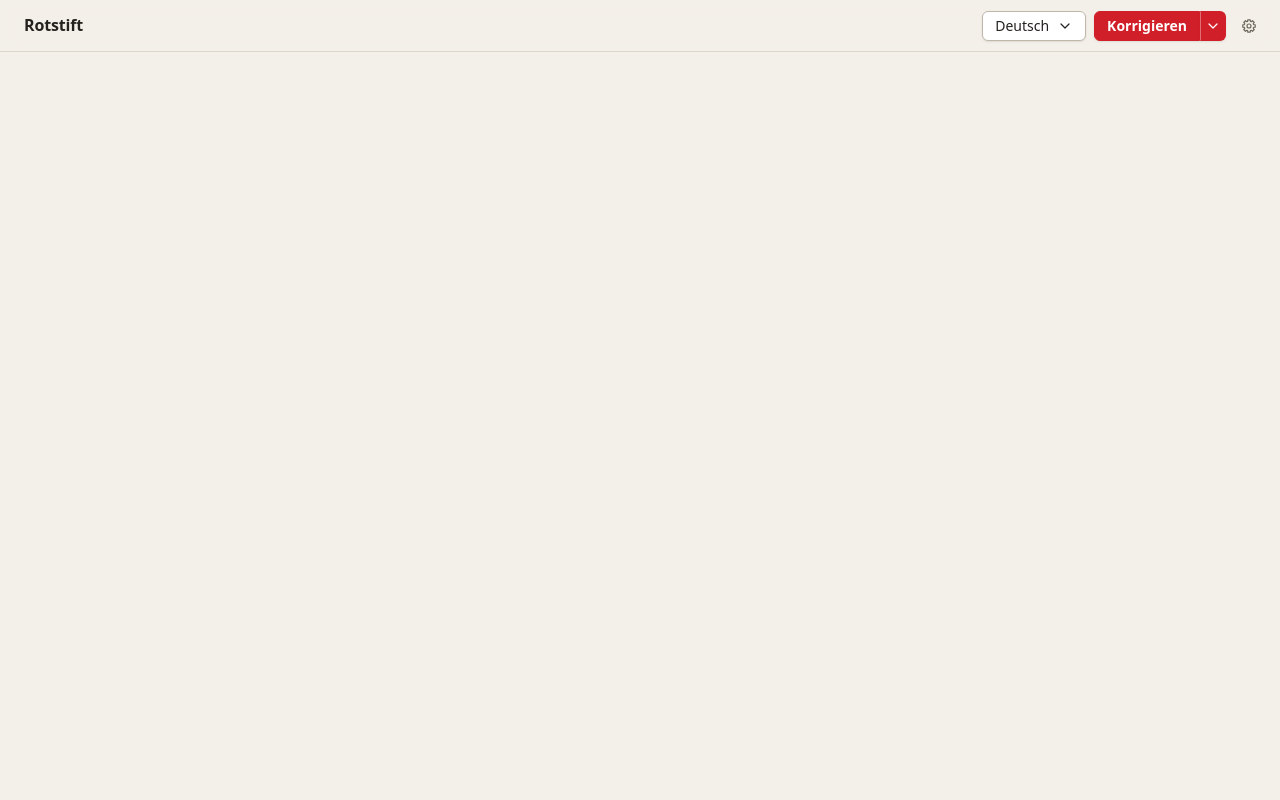
Scenario: SubjectSelect with content and form › offers Inhalt and Form next to spelling and grammar, both off by default
What coordinates should you click on to do the following:
click the button "Deutsch"
I would click on:
 (1034, 26)
Its box is [982,10,1086,40].
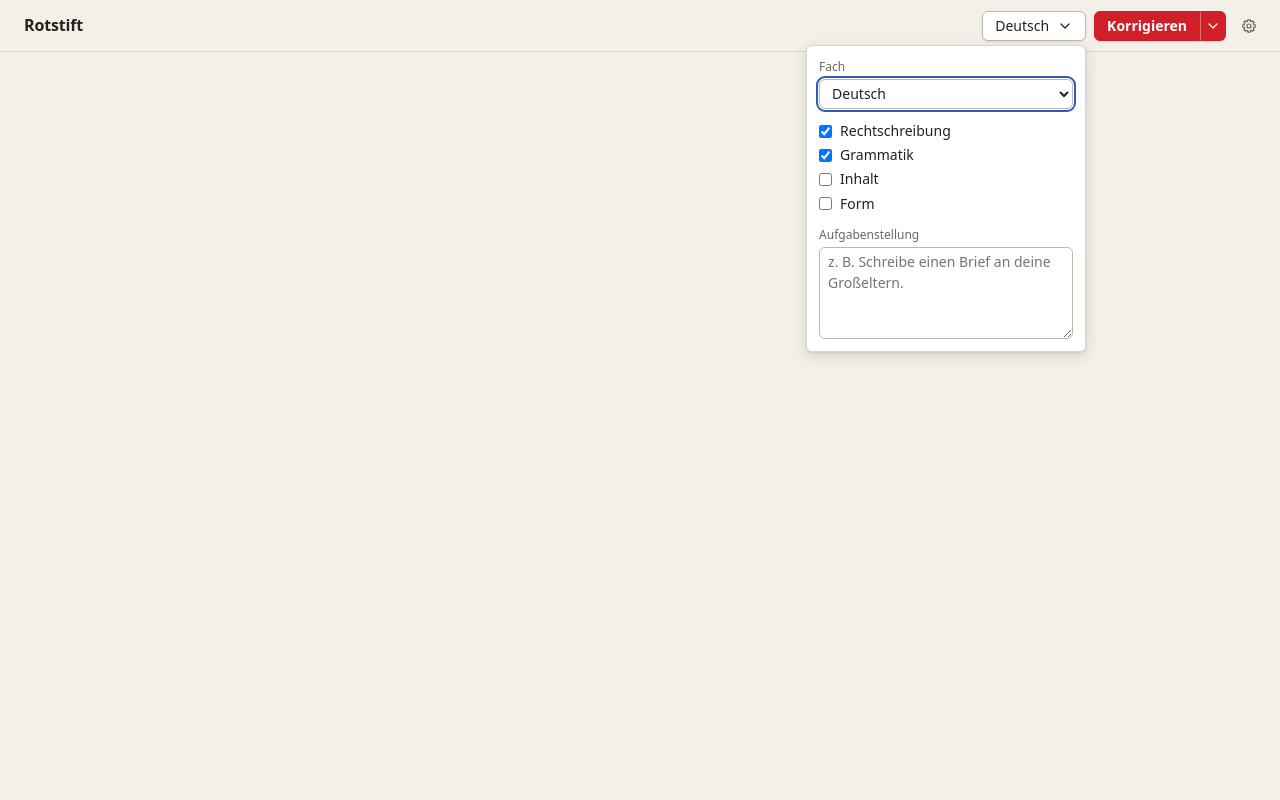
Check: the checkbox labelled "Inhalt" is not checked, box [819,173,832,186]
Check: the checkbox labelled "Form" is not checked, box [819,197,832,210]
